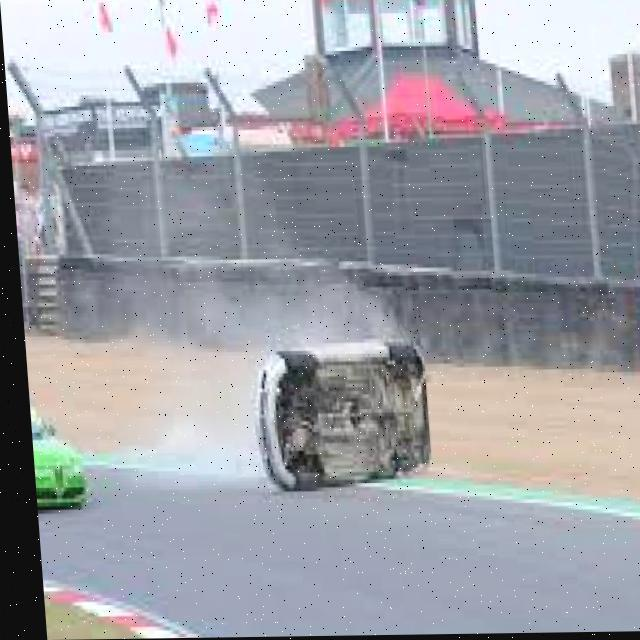single accident: (218, 243, 453, 515)
